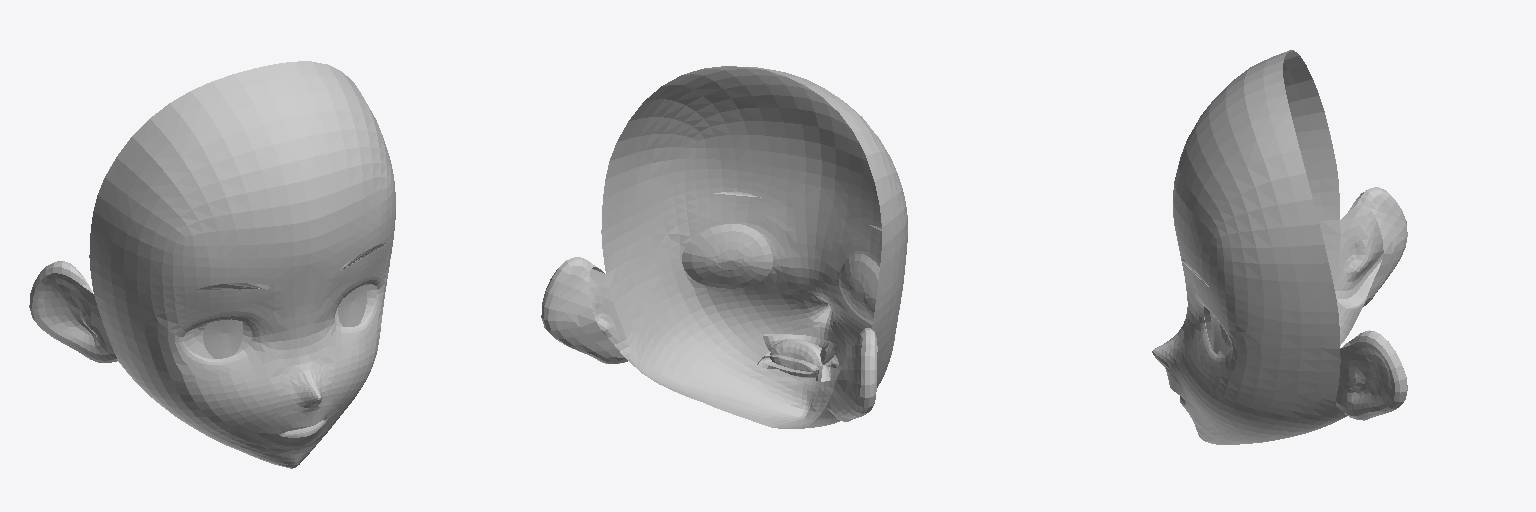
Rendered from mouthFrownRight.obj.
3 renders of one model, left to right at view 1: azimuth 30°, elevation 25°; view 2: azimuth 150°, elevation 25°; view 3: azimuth 270°, elevation 25°, orthographic.
Parts seen in each view (by area): view 1: Face; view 2: Face; view 3: Face.
Part boxes in pixels (left/top/right/bottom): Face: left=29, top=61, right=395, bottom=468; Face: left=541, top=66, right=907, bottom=428; Face: left=1152, top=50, right=1407, bottom=444.
Bounding box in the file's own units: 0.2176 × 0.2333 × 0.1449.